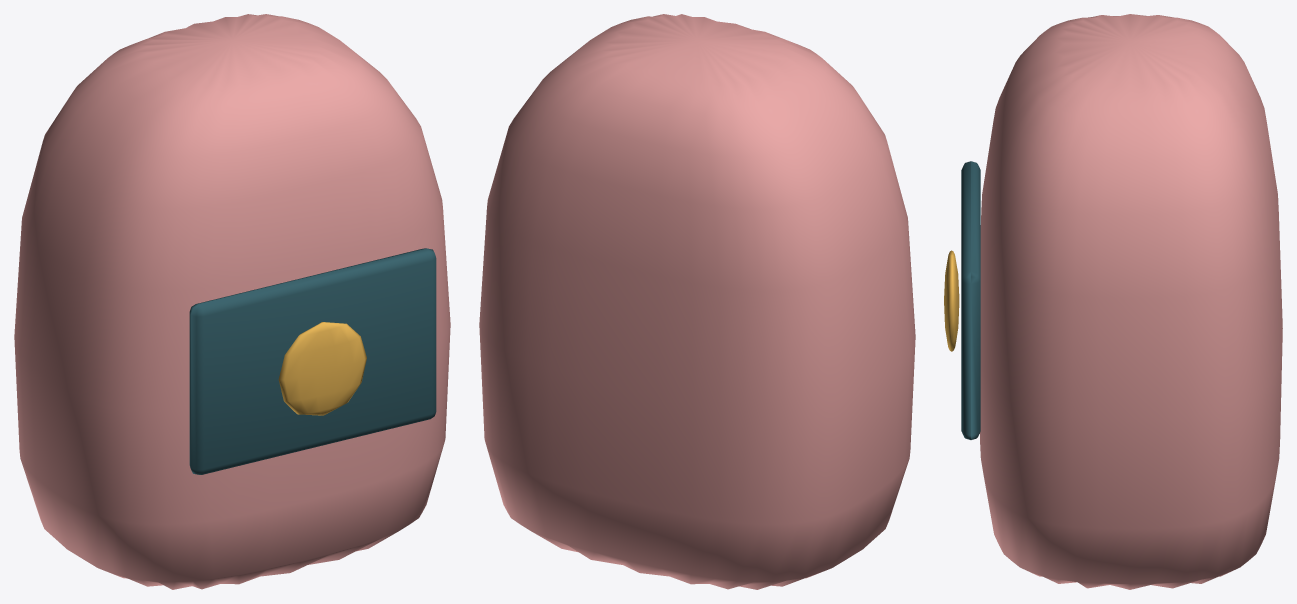
Rendered from goods_meat.glb.
3 renders of one model, left to right at view 1: azimuth 30°, elevation 25°; view 2: azimuth 150°, elevation 25°; view 3: azimuth 270°, elevation 25°, orthographic.
Visible parts, largest first — view 1: goods_meat_crafted_mesh; view 2: goods_meat_crafted_mesh; view 3: goods_meat_crafted_mesh.
Boxes of the visible parts, left/top/right/bottom form: goods_meat_crafted_mesh: left=14, top=14, right=450, bottom=589; goods_meat_crafted_mesh: left=479, top=14, right=915, bottom=589; goods_meat_crafted_mesh: left=944, top=14, right=1282, bottom=589.
Size of the model in its own units: 0.5499 by 0.7063 by 0.4368.
